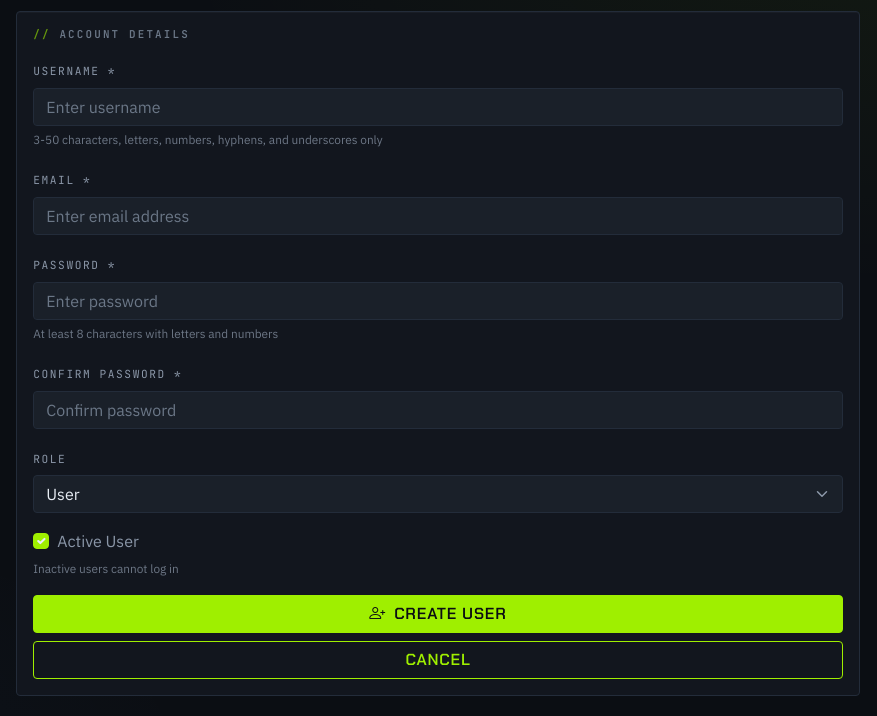
it: admin entry points › validates and submits the complete create-user command
This screenshot has width=877, height=716.
(page scrolled)
Submit the form named "Create user"
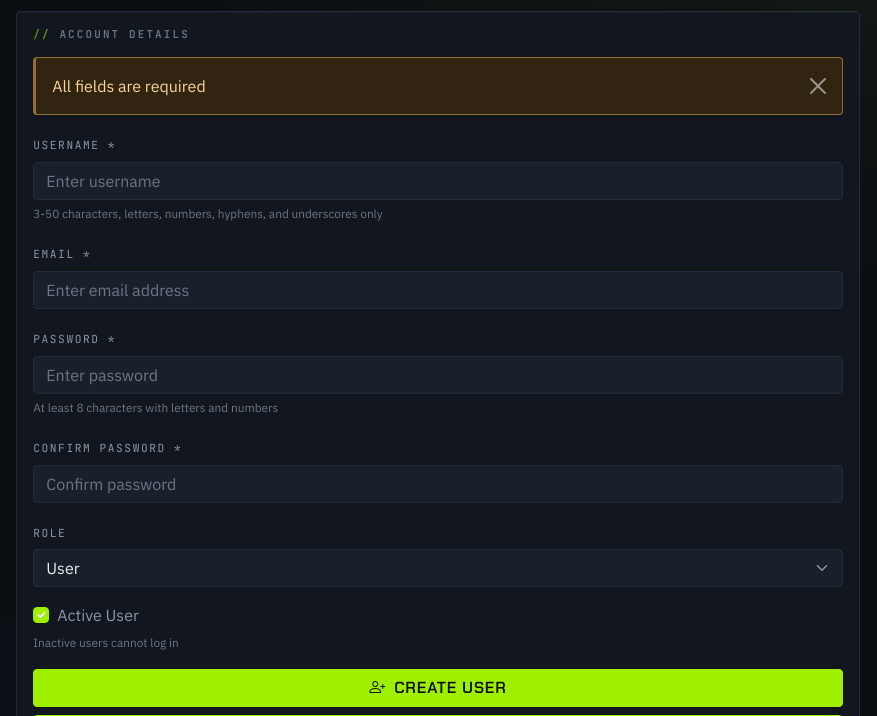
expect the text "All fields are required" is shown: met, box [33, 57, 843, 115]
Type "operator" into the field with placeholder "Enter username".
click(438, 181); type("operator")  # box [33, 162, 843, 200]
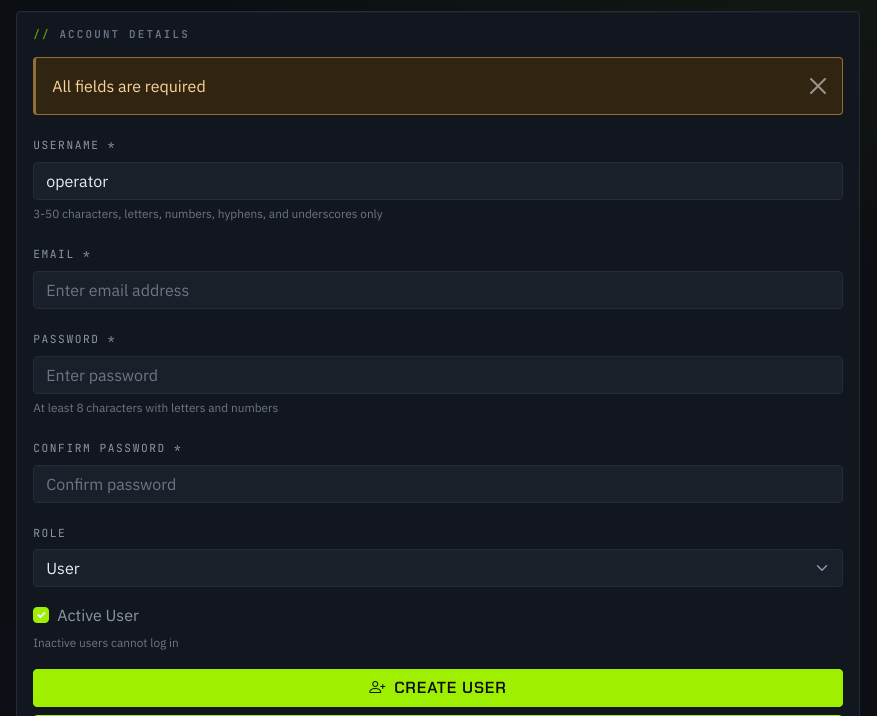
Type "operator@example.test" into the field with placeholder "Enter email address".
click(438, 290); type("operator@example.test")  # box [33, 271, 843, 309]
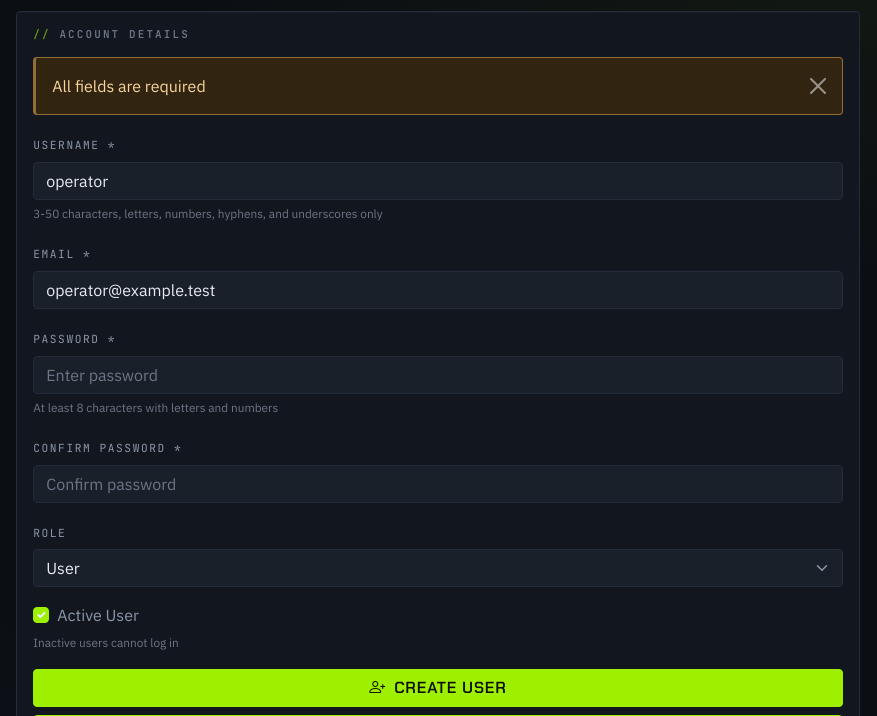
Type "password1" into the password field with placeholder "Enter password".
click(438, 375); type("password1")  # box [33, 356, 843, 394]
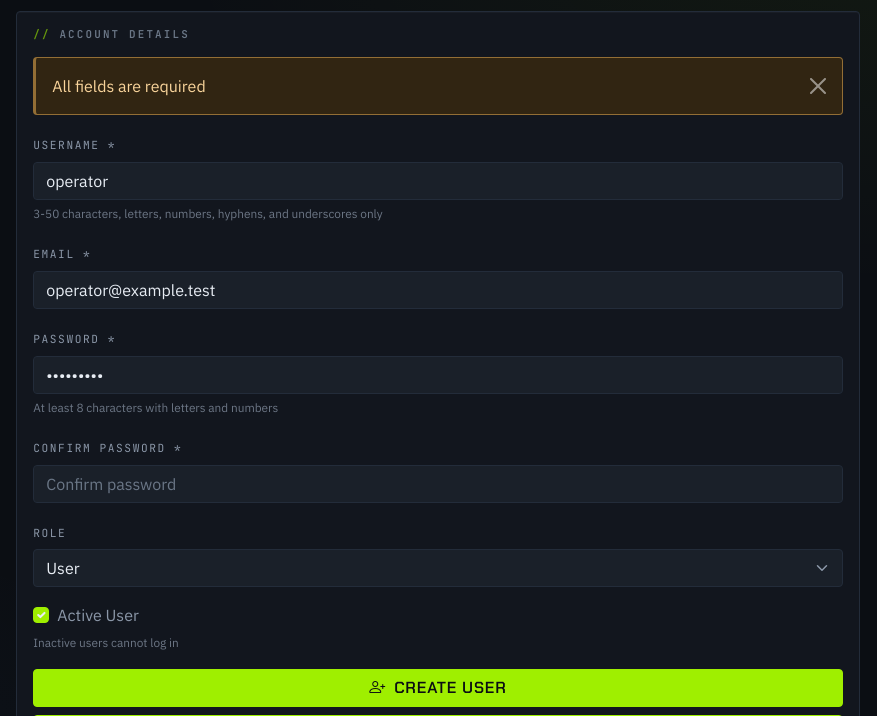
Type "password1" into the password field with placeholder "Confirm Password".
click(438, 484); type("password1")  # box [33, 465, 843, 503]
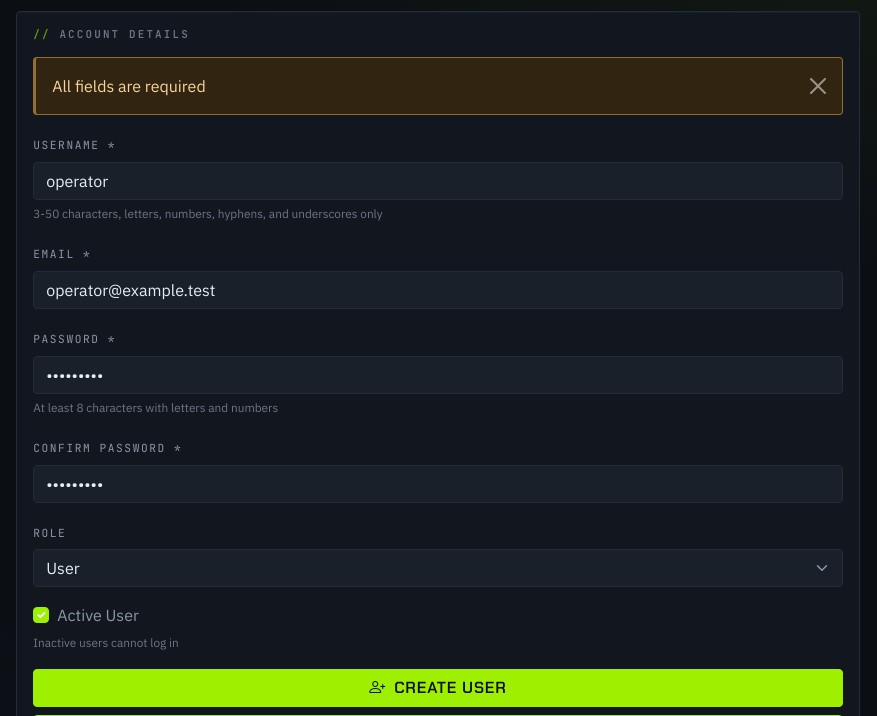
Click the button "Create user".
click(438, 688)  # box [33, 669, 843, 707]
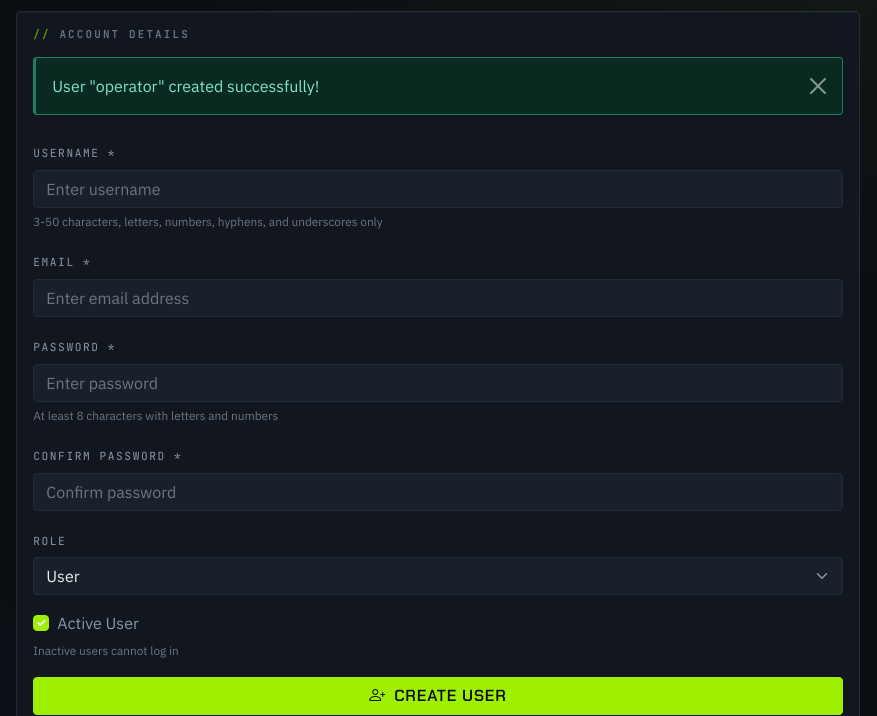
expect the text "User \"operator\" created successfully!" is shown: met, box [33, 57, 843, 115]
